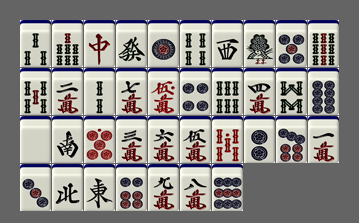0m: (148, 68, 179, 115)
0p: (84, 116, 115, 163)
0s: (212, 116, 243, 163)
1m: (308, 116, 339, 163)
1p: (148, 20, 179, 67)
1s: (244, 20, 275, 67)
1z: (84, 164, 115, 211)
2m: (52, 68, 83, 115)
2p: (244, 116, 275, 163)
2s: (84, 68, 115, 115)
2z: (52, 116, 83, 163)
3m: (116, 116, 147, 163)
3p: (20, 164, 51, 211)
3s: (20, 20, 51, 67)
3z: (212, 20, 243, 67)
4m: (244, 68, 275, 115)
4p: (180, 68, 211, 115)
4s: (180, 20, 211, 67)
4z: (52, 164, 83, 211)
5m: (180, 116, 211, 163)
5p: (276, 20, 307, 67)
5s: (20, 68, 51, 115)
5z: (20, 116, 51, 163)
6m: (148, 116, 179, 163)
6p: (116, 164, 147, 211)
6s: (212, 68, 243, 115)
6z: (116, 20, 147, 67)
7m: (116, 68, 147, 115)
7p: (276, 116, 307, 163)
7s: (52, 20, 83, 67)
7z: (84, 20, 115, 67)
8m: (180, 164, 211, 211)
8p: (308, 68, 339, 115)
8s: (276, 68, 307, 115)
9m: (148, 164, 179, 211)
9p: (212, 164, 243, 211)
9s: (308, 20, 339, 67)
